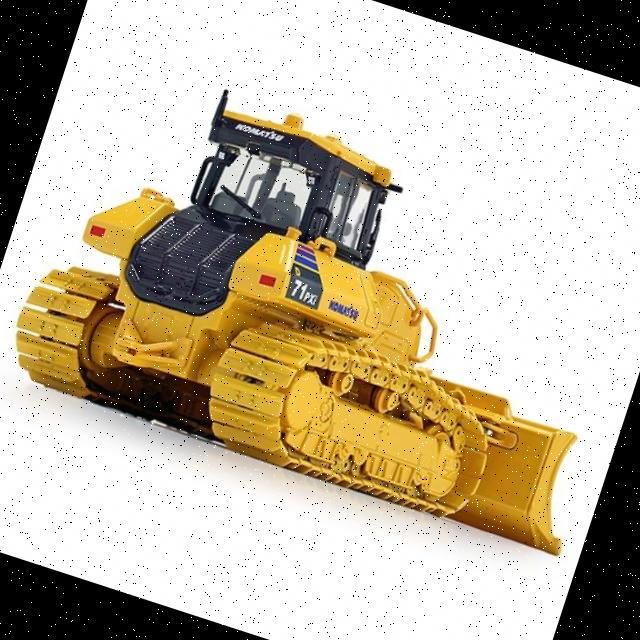Bulldozer: (0, 41, 640, 575)
